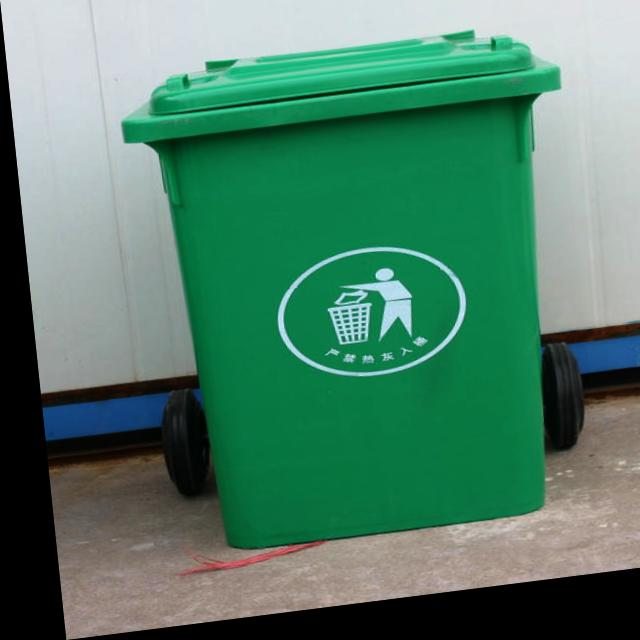garbage_bin: (111, 33, 591, 565)
